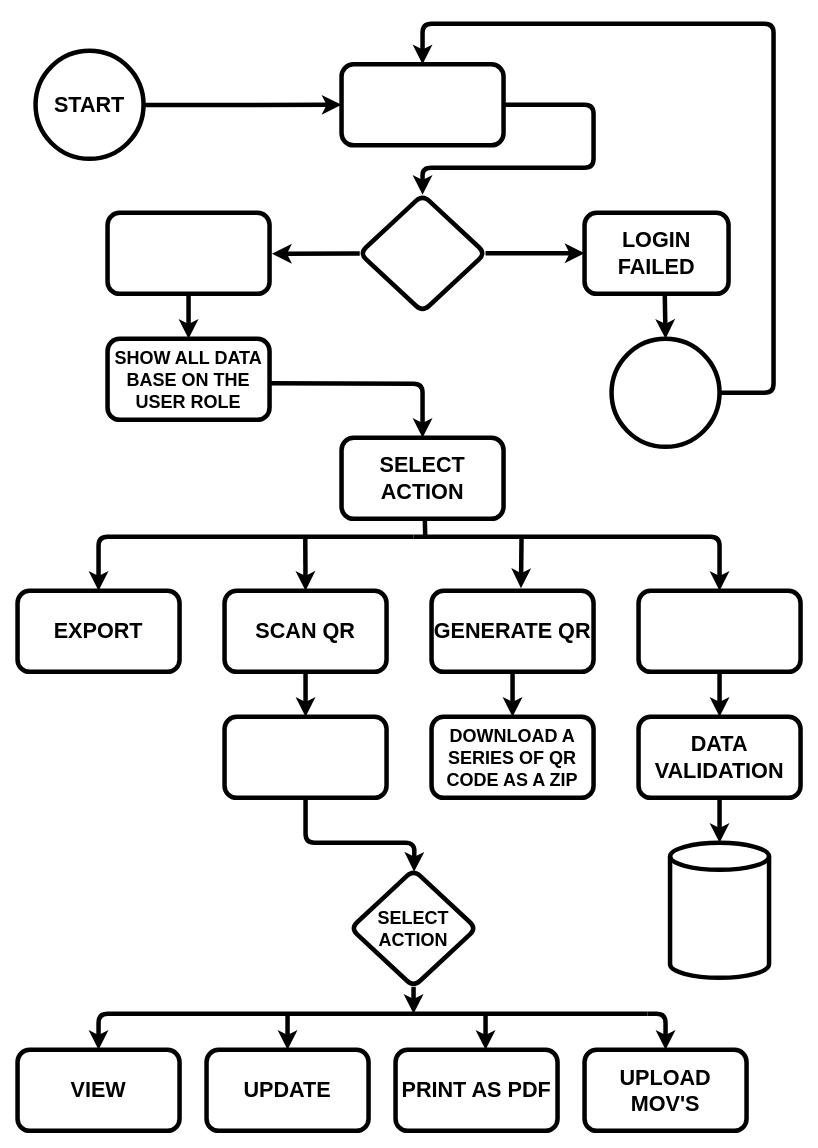
This 818x1148 diagram has some shape labels left out. Each missing label, with the box of its shape:
BACK TO LOGIN PAGE: (609, 336, 721, 449)
CREATE ICT ENTRY: (636, 588, 802, 674)
INSERT INTO DATABASE: (667, 840, 771, 980)
LOGIN: (339, 62, 505, 147)
LOGIN SUCCESS: (105, 210, 271, 296)
SHOW RESULT: (222, 714, 388, 800)
VERIFIED: (357, 192, 487, 314)
